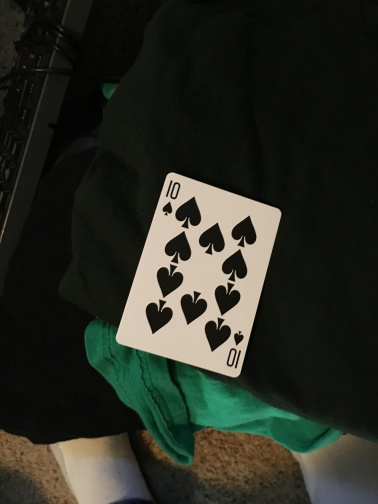ten: (111, 171, 283, 377)
